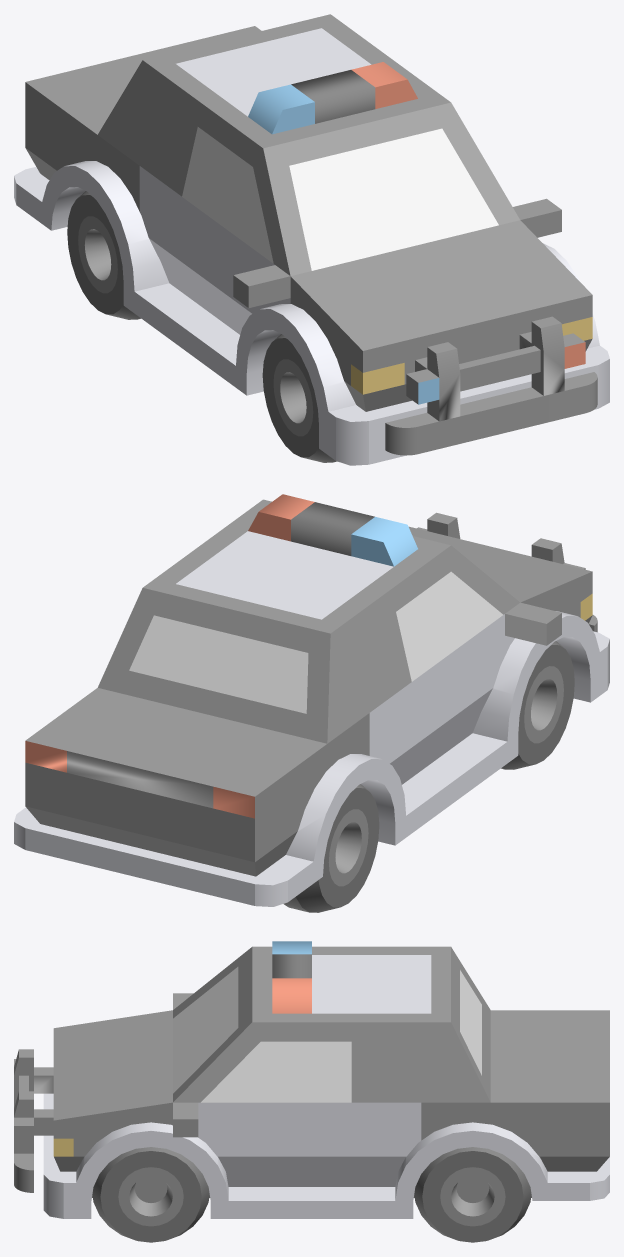
File: police.fbx
3 renders of one model, top to bottom at view 1: azimuth 30°, elevation 25°; view 2: azimuth 150°, elevation 25°; view 3: azimuth 270°, elevation 25°, orthographic. The views are drawn at different scales.
Visible parts, largest first — view 1: body, grill, wheel_backRight, wheel_frontRight; view 2: body, wheel_backRight, wheel_frontRight, grill; view 3: body, wheel_backLeft, wheel_frontLeft, grill.
Boxes of the visible parts, bbox=[...] form: body: bbox=[14, 14, 609, 465]; grill: bbox=[385, 316, 597, 455]; wheel_backRight: bbox=[67, 191, 140, 319]; wheel_frontRight: bbox=[262, 334, 336, 462]; body: bbox=[14, 494, 609, 906]; wheel_backRight: bbox=[284, 784, 379, 912]; wheel_frontRight: bbox=[501, 641, 574, 769]; grill: bbox=[417, 512, 597, 632]; body: bbox=[43, 941, 609, 1218]; wheel_backLeft: bbox=[414, 1147, 531, 1242]; wheel_frontLeft: bbox=[92, 1147, 209, 1242]; grill: bbox=[14, 1049, 53, 1192].
Size of the model in its own units: 150 by 130 by 300.
